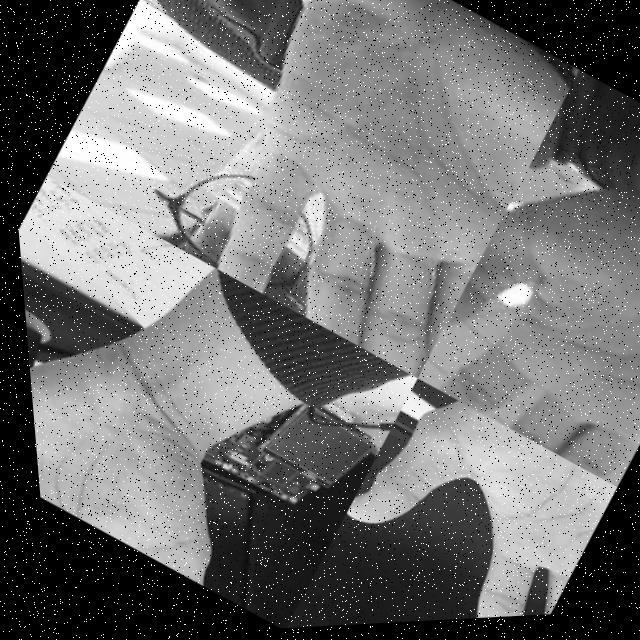no-gloves: (157, 0, 597, 392), (17, 251, 337, 621), (393, 120, 640, 501), (282, 374, 616, 630)
